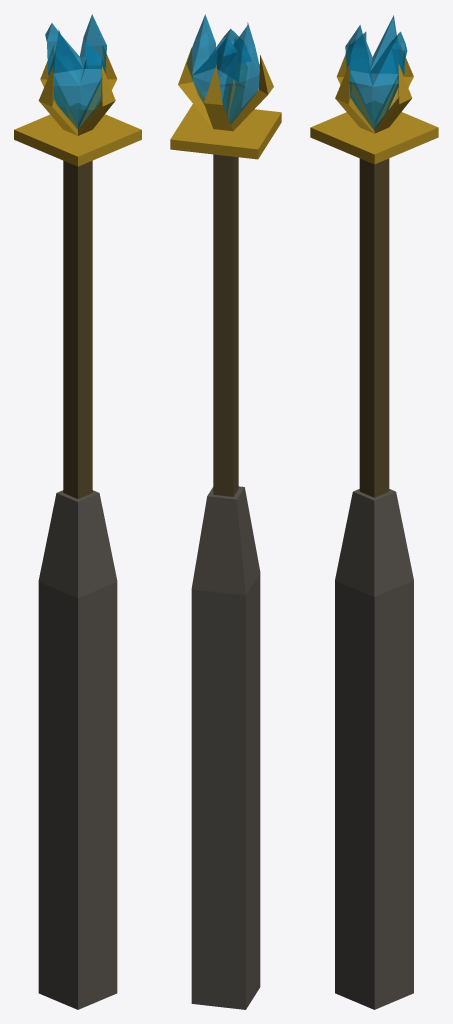
The model's file is crystalTorch01.fbx.
3 views of the same model, side by side, from view 1: azimuth 90°, elevation 25°; view 2: azimuth 210°, elevation 25°; view 3: azimuth 270°, elevation 25° (orthographic).
Parts seen in each view (by area): view 1: crystalTorch01; view 2: crystalTorch01; view 3: crystalTorch01.
Part boxes in pixels (x1,y1,x2,y2): crystalTorch01: (14,14,141,1009); crystalTorch01: (170,14,281,1009); crystalTorch01: (310,15,438,1009).
Size of the model in its own units: 34.87 by 293 by 34.87.
